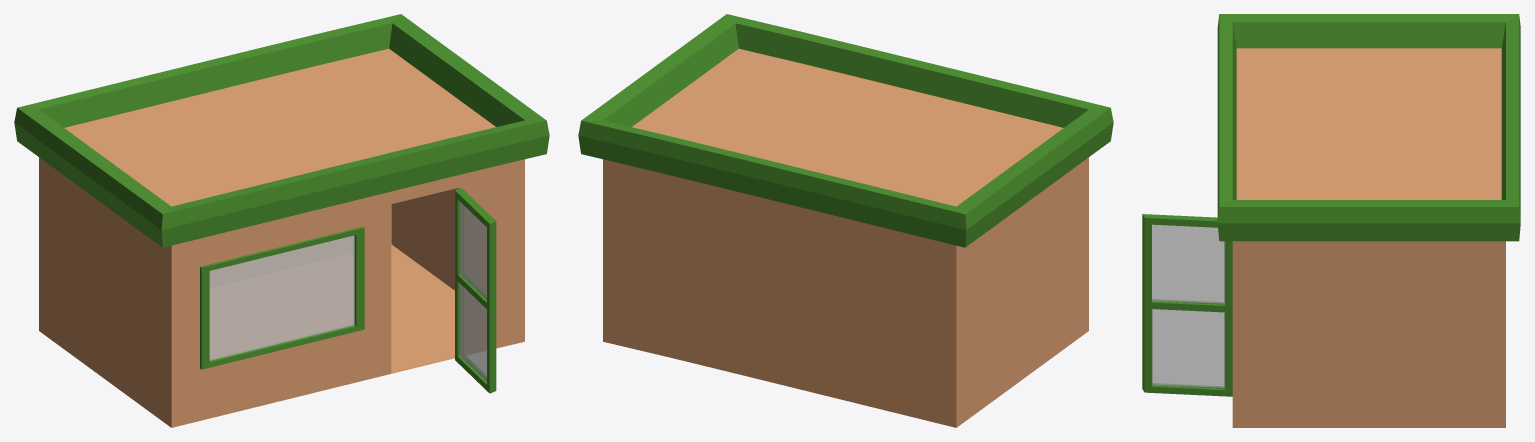
3 views of the same model, side by side, from view 1: azimuth 30°, elevation 25°; view 2: azimuth 150°, elevation 25°; view 3: azimuth 270°, elevation 25° (orthographic). The views are drawn at different scales.
Parts seen in each view (by area): view 1: Store 4, Door.003; view 2: Store 4; view 3: Store 4, Door.003.
Part boxes in pixels (<box>): Store 4: <box>14,14,549,427</box>; Door.003: <box>455,188,496,393</box>; Store 4: <box>578,14,1113,427</box>; Store 4: <box>1217,14,1520,427</box>; Door.003: <box>1142,214,1232,396</box>.
Size of the model in its own units: 4.39 by 2.41 by 3.6.
